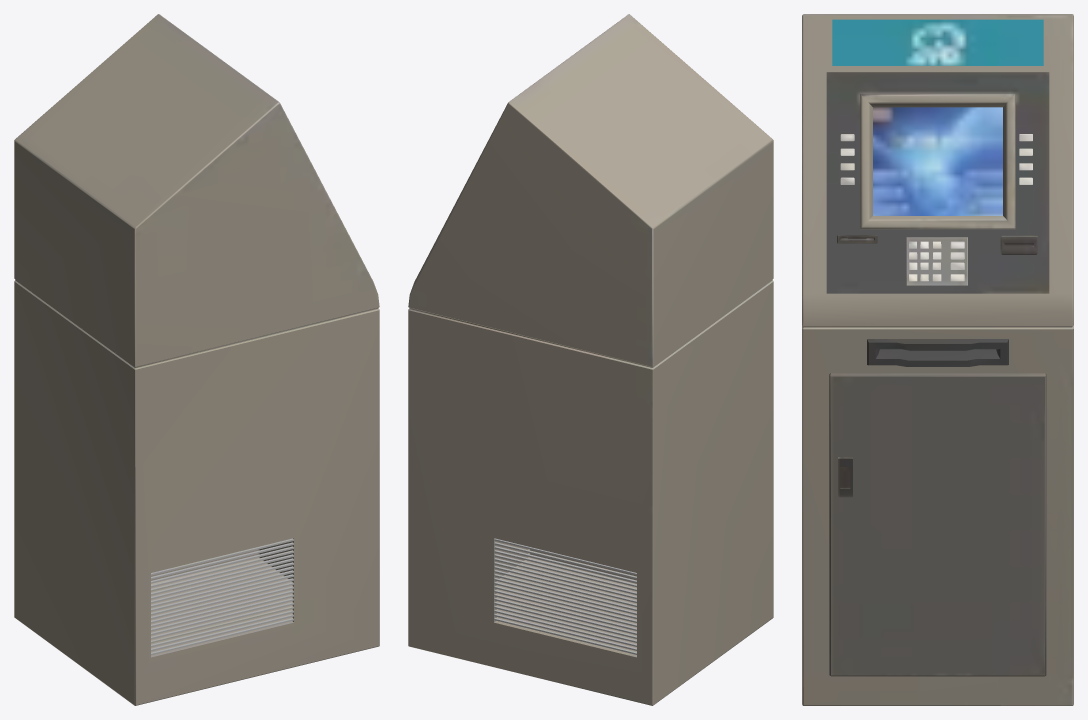
The model's file is atm.lod0.glb.
3 renders of one model, left to right at view 1: azimuth 30°, elevation 25°; view 2: azimuth 150°, elevation 25°; view 3: azimuth 270°, elevation 25°, orthographic. The views are drawn at different scales.
Visible parts, largest first — view 1: SMS ATM Machine.Shape_ATM Machine_0; view 2: SMS ATM Machine.Shape_ATM Machine_0; view 3: SMS ATM Machine.Shape_ATM Machine_0, SMS ATM Machine.Shape_Monitor Screen 02_0.
Part boxes in pixels (left/top/right/bottom): SMS ATM Machine.Shape_ATM Machine_0: left=14, top=14, right=379, bottom=705; SMS ATM Machine.Shape_ATM Machine_0: left=408, top=14, right=773, bottom=705; SMS ATM Machine.Shape_ATM Machine_0: left=802, top=14, right=1073, bottom=705; SMS ATM Machine.Shape_Monitor Screen 02_0: left=832, top=19, right=1043, bottom=215.
Size of the model in its own units: 0.7306 by 1.57 by 0.608.
Materials: 2 (2 with a texture image).
